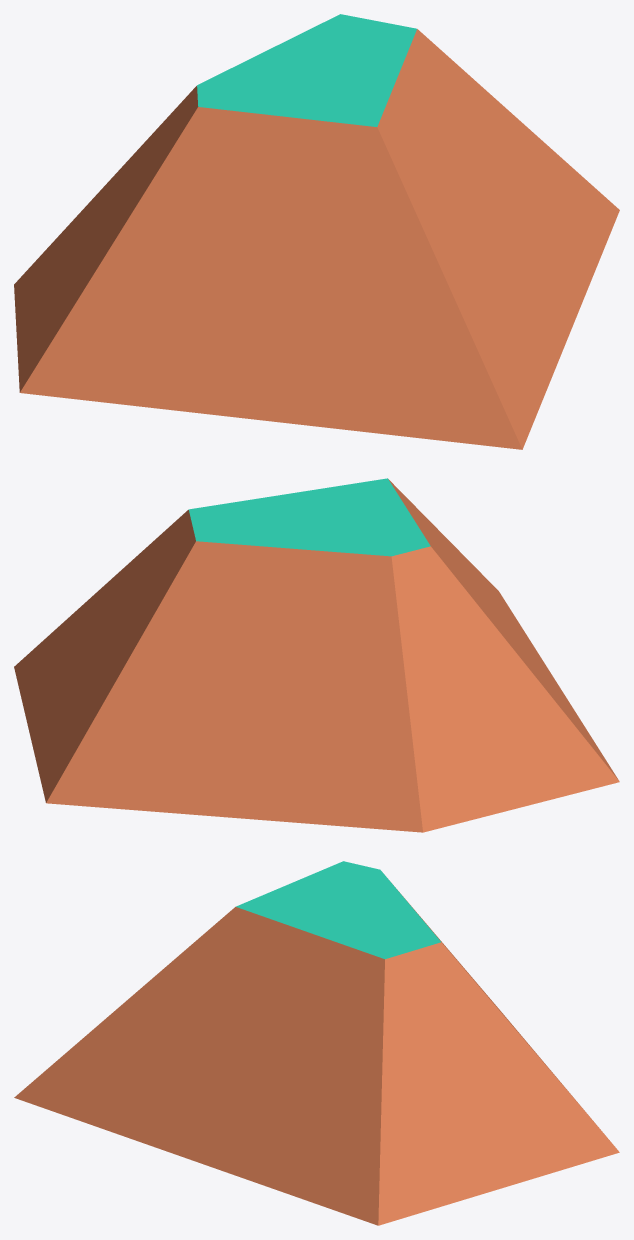
File: rock_smallC.dae
The picture shows the model from 3 angles, top to bottom: view 1: azimuth 30°, elevation 25°; view 2: azimuth 150°, elevation 25°; view 3: azimuth 270°, elevation 25°; orthographic projection. The views are drawn at different scales.
Visible parts, largest first — view 1: rock_smallC; view 2: rock_smallC; view 3: rock_smallC.
Part boxes in pixels (<box>): rock_smallC: <box>14,14,619,449</box>; rock_smallC: <box>14,478,619,832</box>; rock_smallC: <box>14,861,619,1225</box>.
Bounding box in the file's own units: 0.3608 × 0.1227 × 0.3608.
